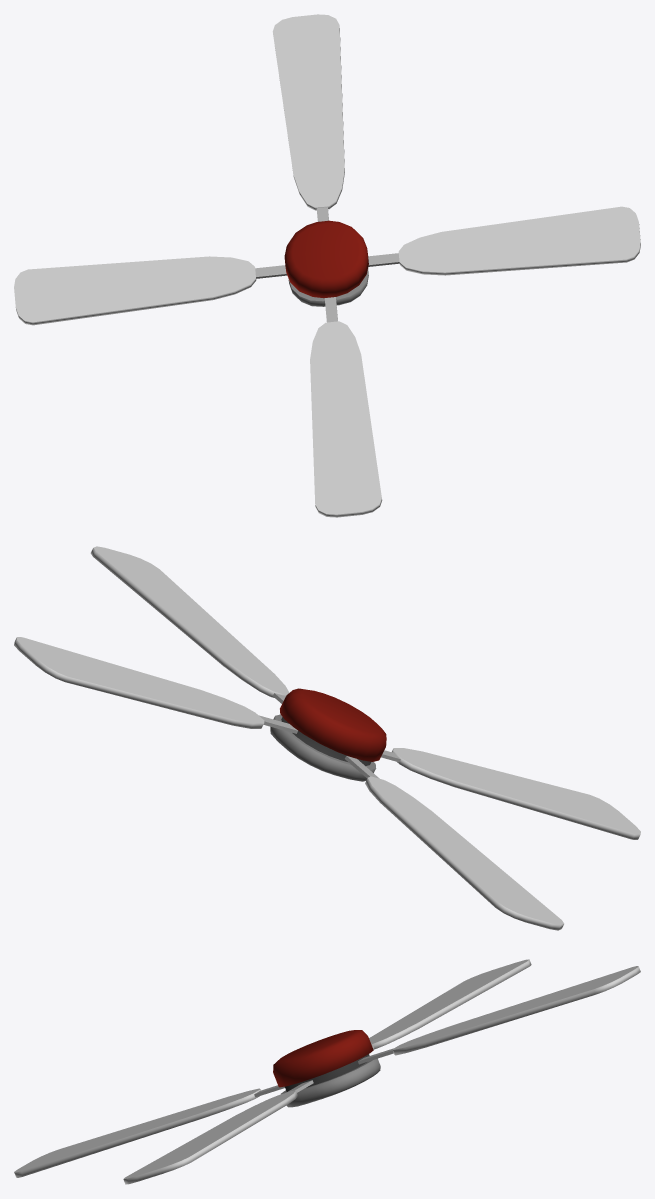
The model's file is fan.gltf.
The picture shows the model from 3 angles, top to bottom: view 1: azimuth 30°, elevation 25°; view 2: azimuth 150°, elevation 25°; view 3: azimuth 270°, elevation 25°; orthographic projection. The views are drawn at different scales.
Parts seen in each view (by area): view 1: Ceiling Fan A.001, Ceiling Fan Base.001; view 2: Ceiling Fan A.001, Ceiling Fan Base.001; view 3: Ceiling Fan A.001, Ceiling Fan Base.001.
Part boxes in pixels (<box>): Ceiling Fan A.001: <box>14,14,640,517</box>; Ceiling Fan Base.001: <box>284,220,368,306</box>; Ceiling Fan A.001: <box>14,546,640,930</box>; Ceiling Fan Base.001: <box>270,688,386,781</box>; Ceiling Fan A.001: <box>14,959,640,1184</box>; Ceiling Fan Base.001: <box>273,1030,380,1107</box>.
Size of the model in its own units: 1.57 by 0.8241 by 1.46.
1 material, 1 textured.
